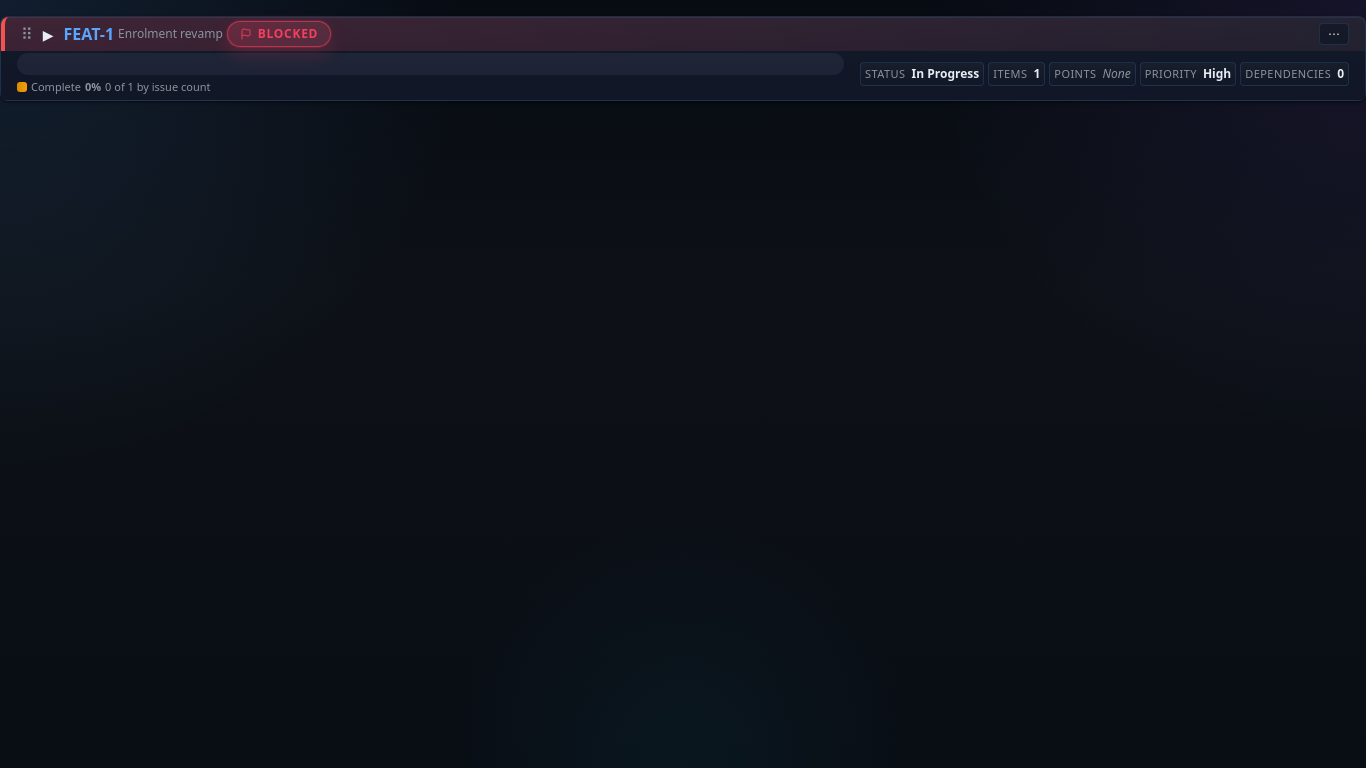
Test case: MasterCardLane — flagging the Feature itself as blocked › asks to REMOVE the flag from a Feature that already carries one
Click the button named "Actions for FEAT-1": (1334, 34) [1319,23,1349,45]
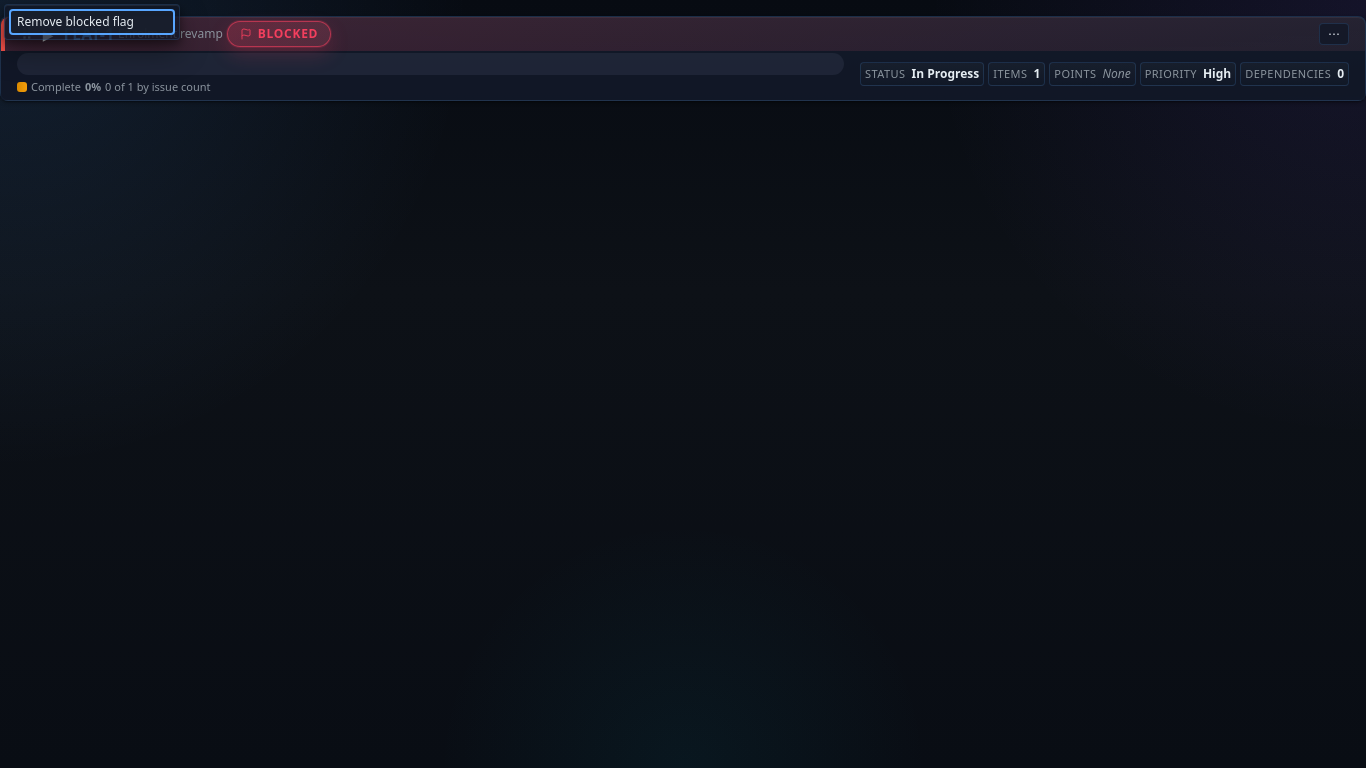
Check: the menu item "Remove blocked flag" is shown, box [9,9,175,35]
